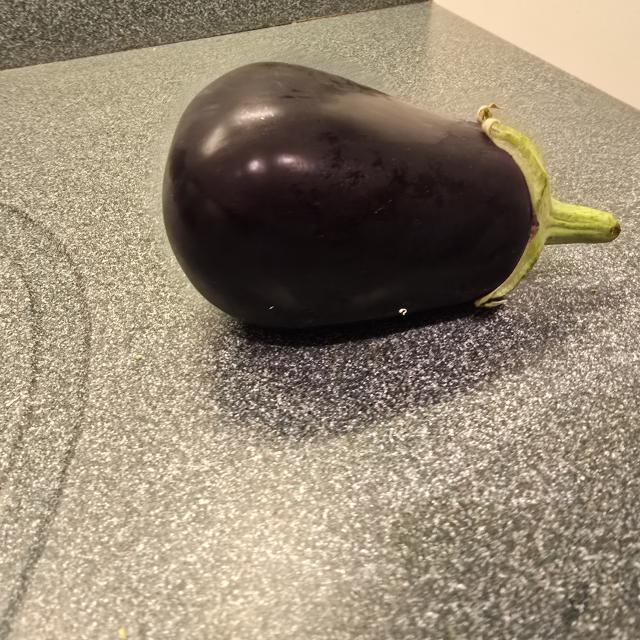Eggplant: (152, 51, 626, 343)
